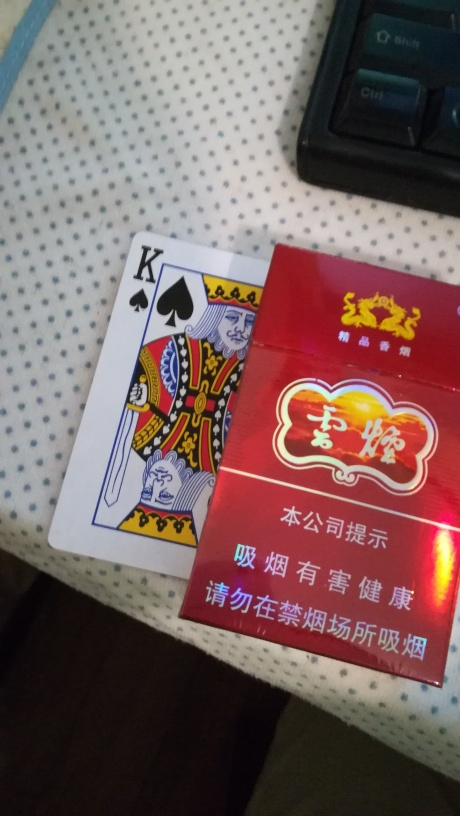ht k: (46, 226, 289, 592)
